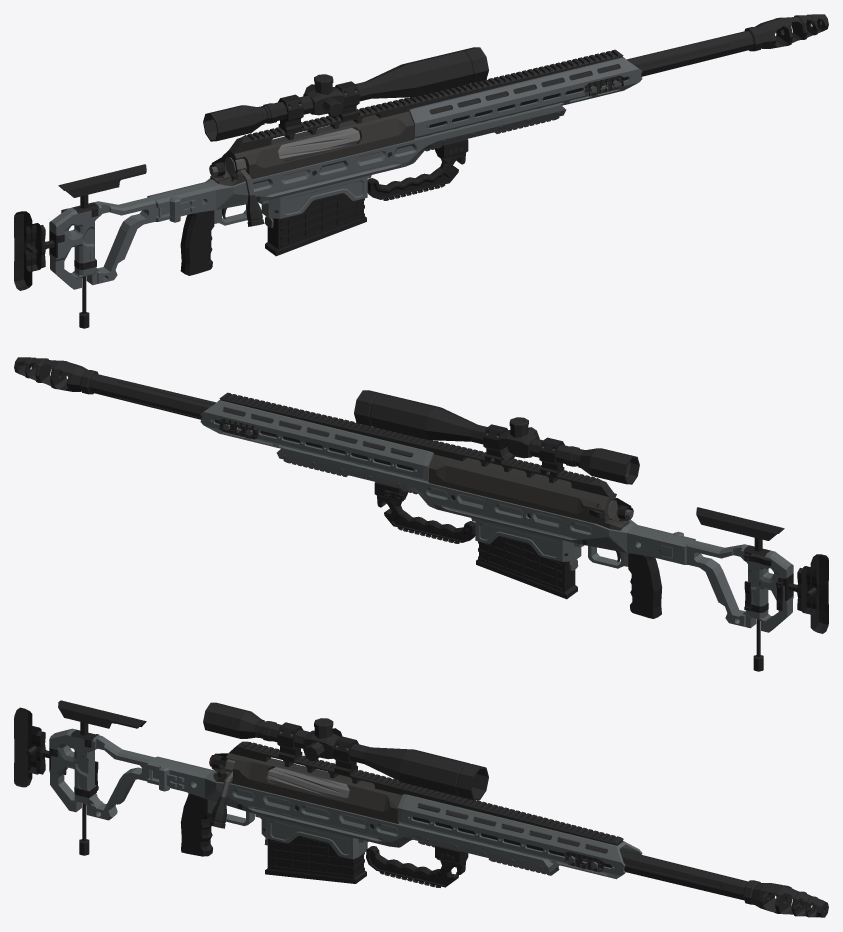
File: low-poly_victrix_armaments_corvo_v.glb
3 views of the same model, one above another, from view 1: azimuth 30°, elevation 25°; view 2: azimuth 150°, elevation 25°; view 3: azimuth 330°, elevation 25° (orthographic).
Visible parts, largest first — view 1: Object_4; view 2: Object_4; view 3: Object_4.
Part boxes in pixels (x1,y1,x2,y2): Object_4: (14, 14, 828, 328); Object_4: (14, 357, 828, 671); Object_4: (14, 700, 828, 917).
Bounding box in the file's own units: 10.79 × 2.44 × 0.8289.
2 materials, 2 textured.
